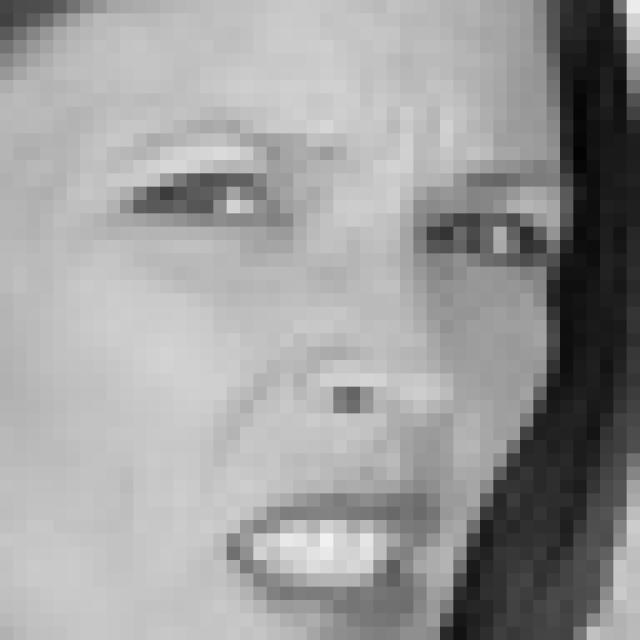disgust: (107, 115, 558, 640)
